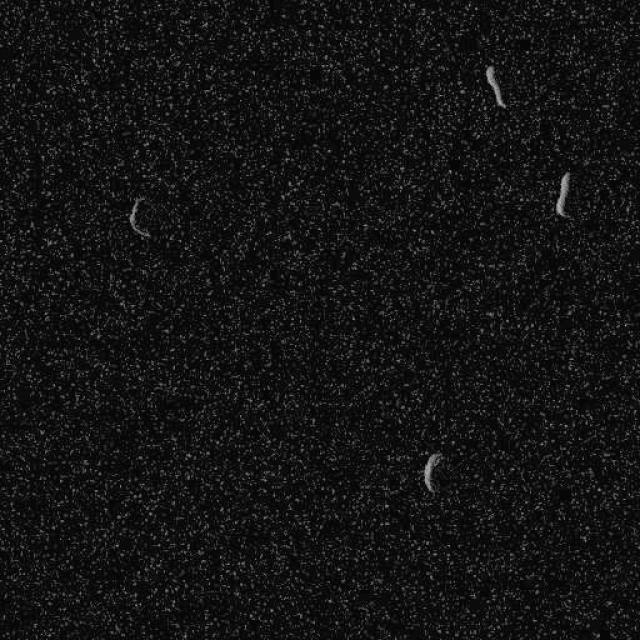D2: (126, 195, 152, 239), (421, 451, 445, 494), (484, 64, 506, 108), (554, 170, 571, 218)
